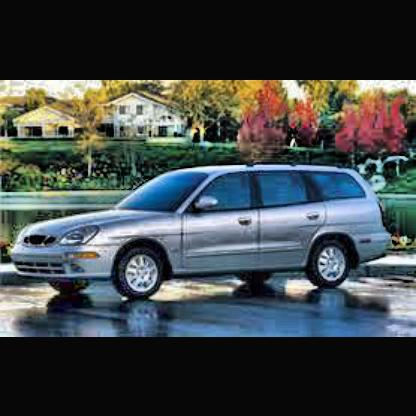Daewoo Nubira Wagon 2002: (10, 162, 397, 304)
